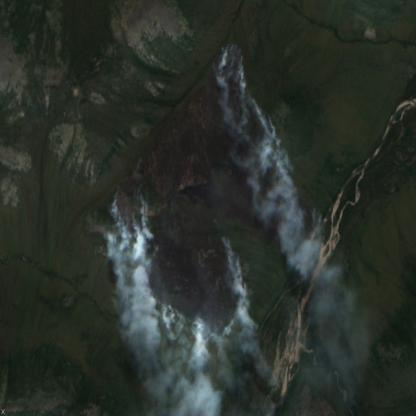fire: (104, 38, 329, 354)
